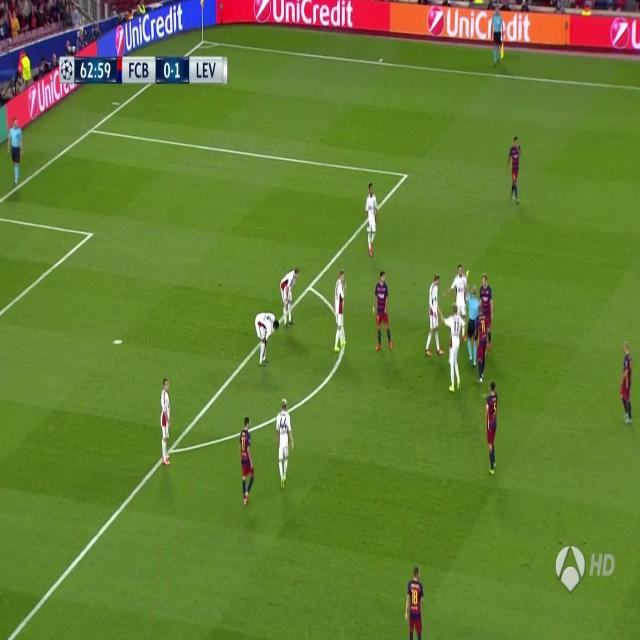Player: (439, 303, 467, 394), (371, 269, 394, 355), (275, 394, 295, 488), (237, 412, 256, 508), (424, 272, 444, 360), (278, 263, 302, 331), (405, 564, 426, 640), (254, 310, 280, 371), (332, 268, 350, 356), (442, 260, 469, 318), (484, 381, 500, 477), (619, 340, 636, 429), (364, 180, 381, 259), (506, 132, 524, 206), (160, 377, 171, 472), (476, 304, 488, 385), (479, 268, 496, 313)
Referee: (464, 272, 479, 366), (6, 118, 24, 187), (490, 4, 506, 70)
